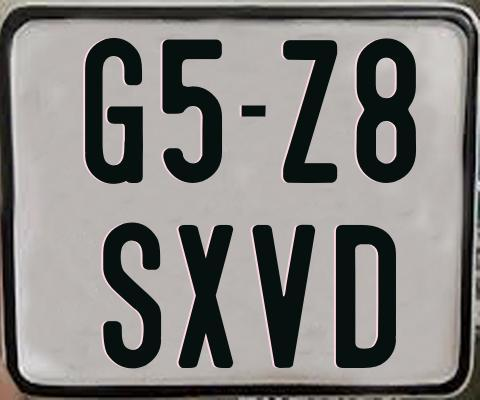5: (161, 36, 221, 183)
8: (355, 38, 416, 185)
D: (333, 222, 395, 366)
G: (83, 36, 146, 182)
S: (102, 220, 164, 367)
V: (252, 225, 321, 371)
X: (178, 222, 236, 368)
Z: (283, 38, 337, 181)
